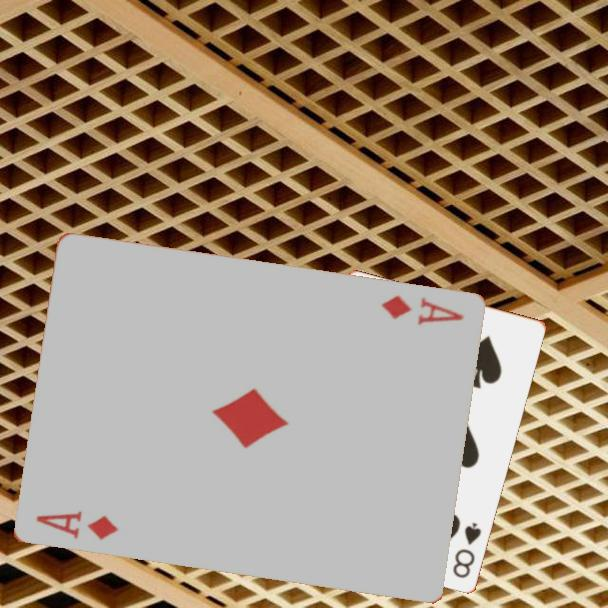d01: (377, 292, 466, 329), (32, 508, 121, 544)
s08: (449, 518, 484, 581)
